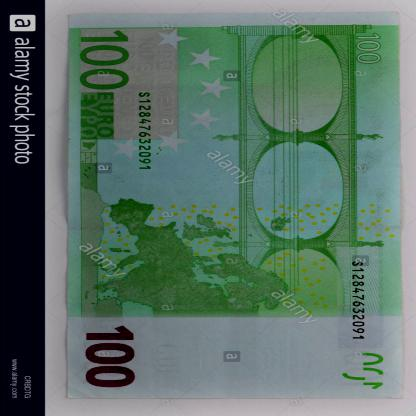euro_banknote: (46, 43, 416, 373)
